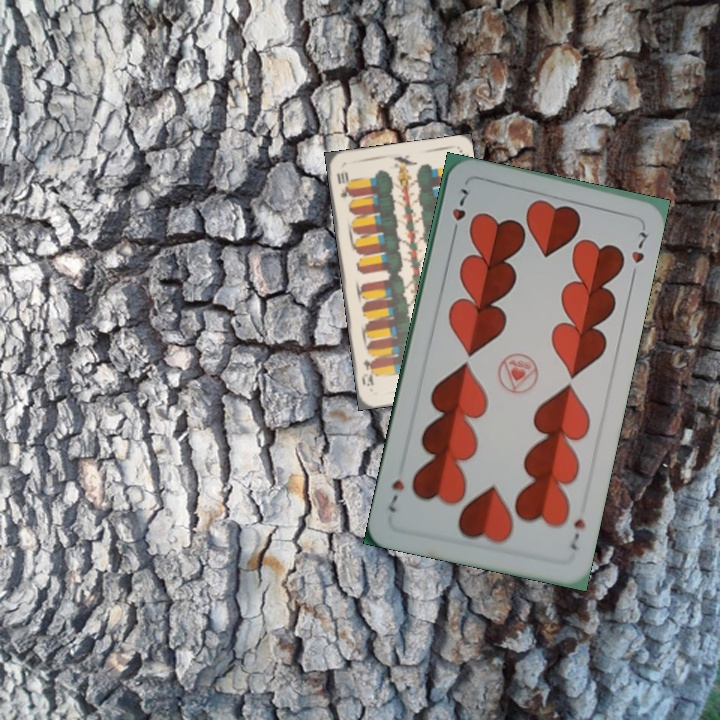E10: (333, 168, 354, 205)
H7: (447, 184, 471, 240), (566, 515, 588, 553)
